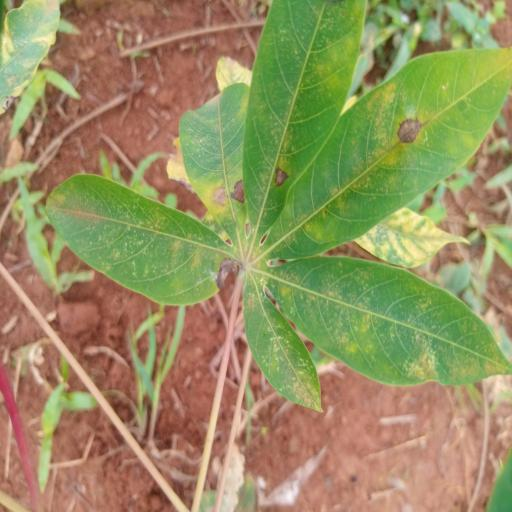Cassava_Mosaic: (40, 0, 512, 418)
